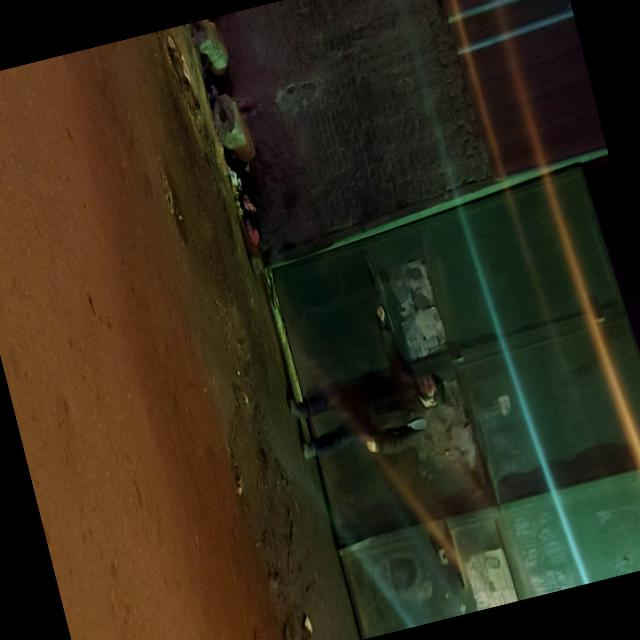long weapon: (350, 235, 408, 352)
